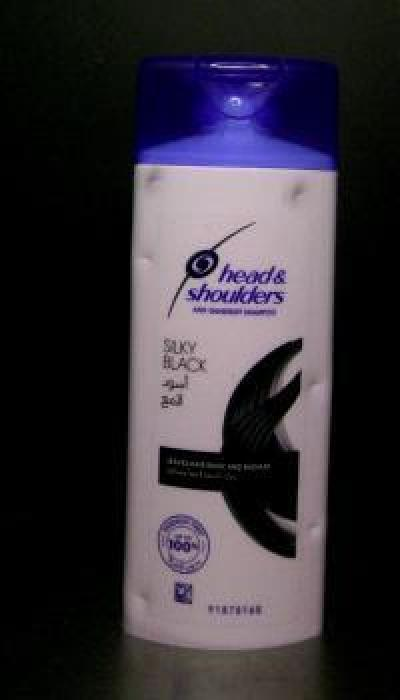dent_unacc: (138, 165, 170, 277), (264, 172, 326, 214), (126, 575, 164, 615), (305, 502, 327, 562), (305, 362, 337, 402)
